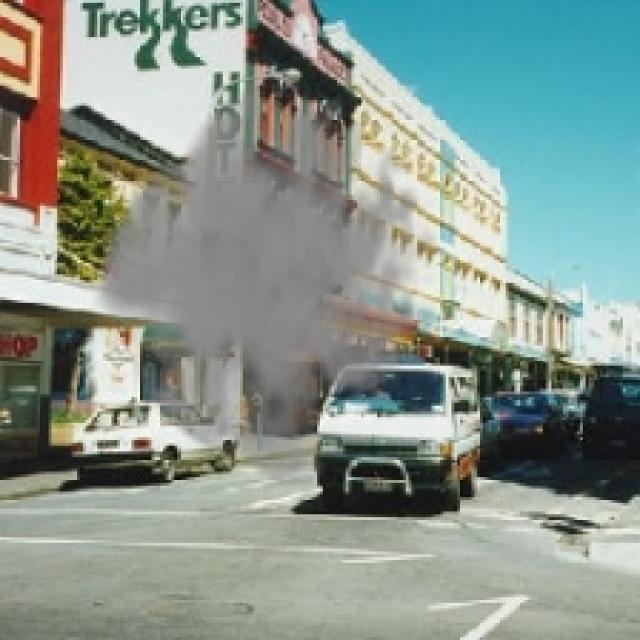smoke: (91, 69, 440, 494)
